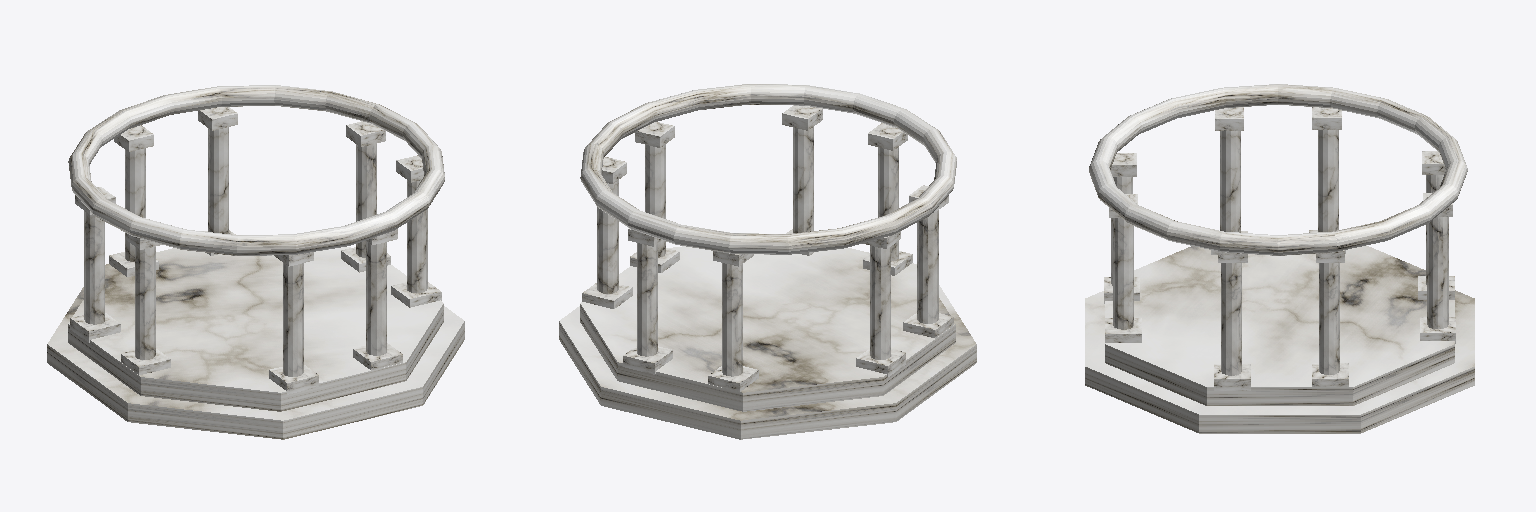
3 views of the same model, side by side, from view 1: azimuth 30°, elevation 25°; view 2: azimuth 150°, elevation 25°; view 3: azimuth 270°, elevation 25° (orthographic).
Visible parts, largest first — view 1: pCylinder2, pTorus1, pCylinder1, group3 columnShaft column1, column group3 columnShaft, column1 group2 columnShaft, group2 column columnShaft, group1 columnShaft column, column group4 columnShaft, group4 column1 columnShaft, columnShaft column1 group1, columnPedestral column group3 (+8 smaller); view 2: pCylinder2, pTorus1, pCylinder1, group2 column columnShaft, column1 group2 columnShaft, columnShaft column1 group1, group1 columnShaft column, group3 columnShaft column1, group4 column1 columnShaft, column group4 columnShaft, column group3 columnShaft, group1 column columnPedestral (+7 smaller); view 3: pCylinder2, pTorus1, pCylinder1, group1 columnShaft column, column group4 columnShaft, group4 column1 columnShaft, group3 columnShaft column1, group2 column columnShaft, column1 group2 columnShaft, column group4 columnPedestral, group3 column1 columnPedestral, columnCapital column1 group2 (+4 smaller).
Part boxes in pixels (x1,y1,x2,y2): pCylinder2: (68, 234, 443, 411); pTorus1: (68, 85, 444, 255); pCylinder1: (47, 287, 464, 439); group3 columnShaft column1: (366, 241, 386, 355); column group3 columnShaft: (283, 263, 303, 376); column1 group2 columnShaft: (135, 247, 155, 359); group2 column columnShaft: (84, 211, 104, 324); group1 columnShaft column: (208, 127, 228, 233); column group4 columnShaft: (407, 180, 427, 292); group4 column1 columnShaft: (356, 144, 376, 257); columnShaft column1 group1: (125, 148, 145, 261); columnPedestral column group3: (269, 365, 318, 394); pCylinder2: (580, 246, 955, 411); pTorus1: (580, 84, 956, 254); pCylinder1: (559, 285, 976, 439); group2 column columnShaft: (870, 246, 890, 359); column1 group2 columnShaft: (917, 210, 938, 323); columnShaft column1 group1: (722, 263, 742, 376); group1 columnShaft column: (637, 243, 657, 356); group3 columnShaft column1: (793, 127, 813, 232); group4 column1 columnShaft: (597, 180, 618, 293); column group4 columnShaft: (645, 144, 665, 257); column group3 columnShaft: (878, 147, 898, 260); group1 column columnPedestral: (623, 346, 672, 374); pCylinder2: (1105, 245, 1454, 405); pTorus1: (1089, 84, 1467, 255); pCylinder1: (1085, 290, 1474, 433); group1 columnShaft column: (1427, 217, 1448, 328); column group4 columnShaft: (1221, 263, 1241, 375); group4 column1 columnShaft: (1319, 263, 1339, 374); group3 columnShaft column1: (1113, 218, 1133, 329); group2 column columnShaft: (1318, 130, 1338, 231); column1 group2 columnShaft: (1220, 131, 1240, 232); column group4 columnPedestral: (1214, 364, 1250, 390); group3 column1 columnPedestral: (1105, 318, 1141, 342); columnCapital column1 group2: (1215, 107, 1243, 130).
Bounding box in the file's own units: 18.48 × 10.02 × 18.48.
1 materials, 1 textured.